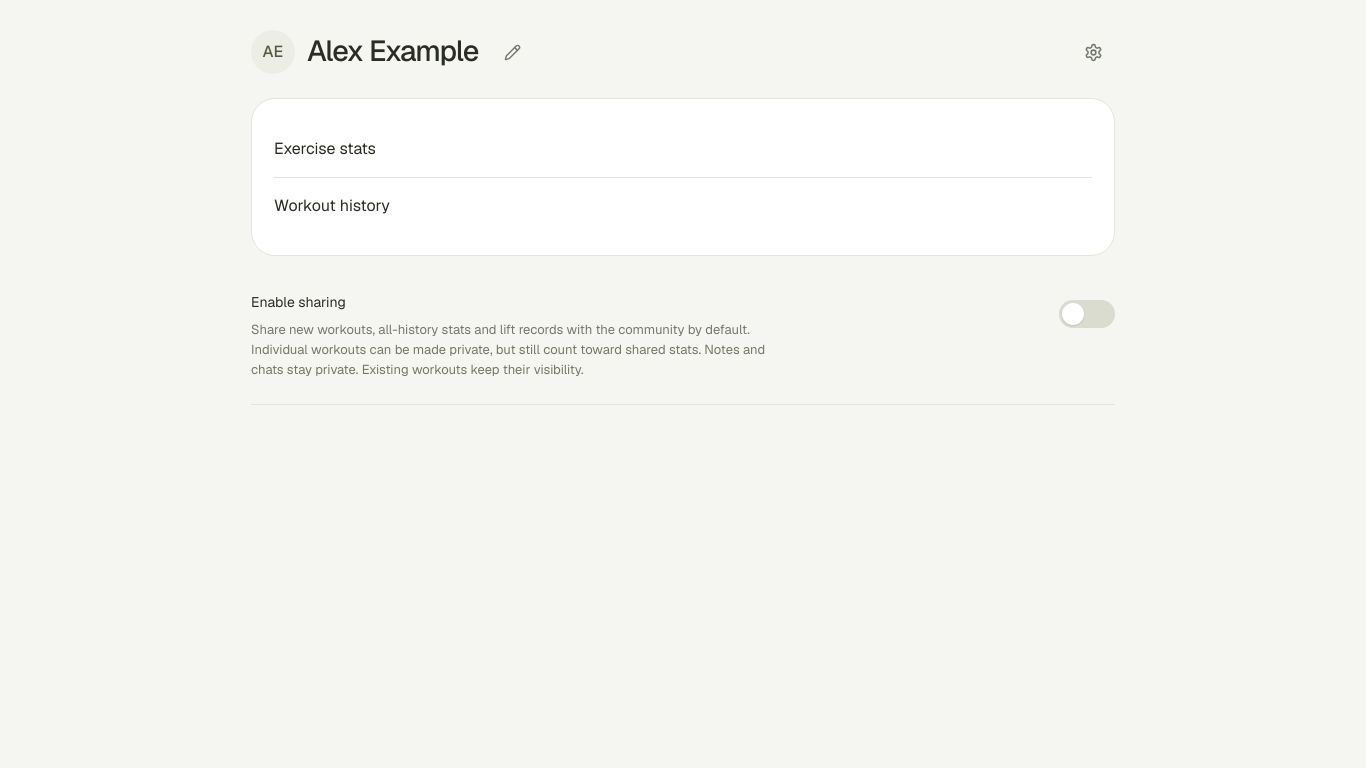
Test: edits only the display name through the pencil surface
Click the button named "Edit display name" at (512, 52), box [490, 30, 534, 74]
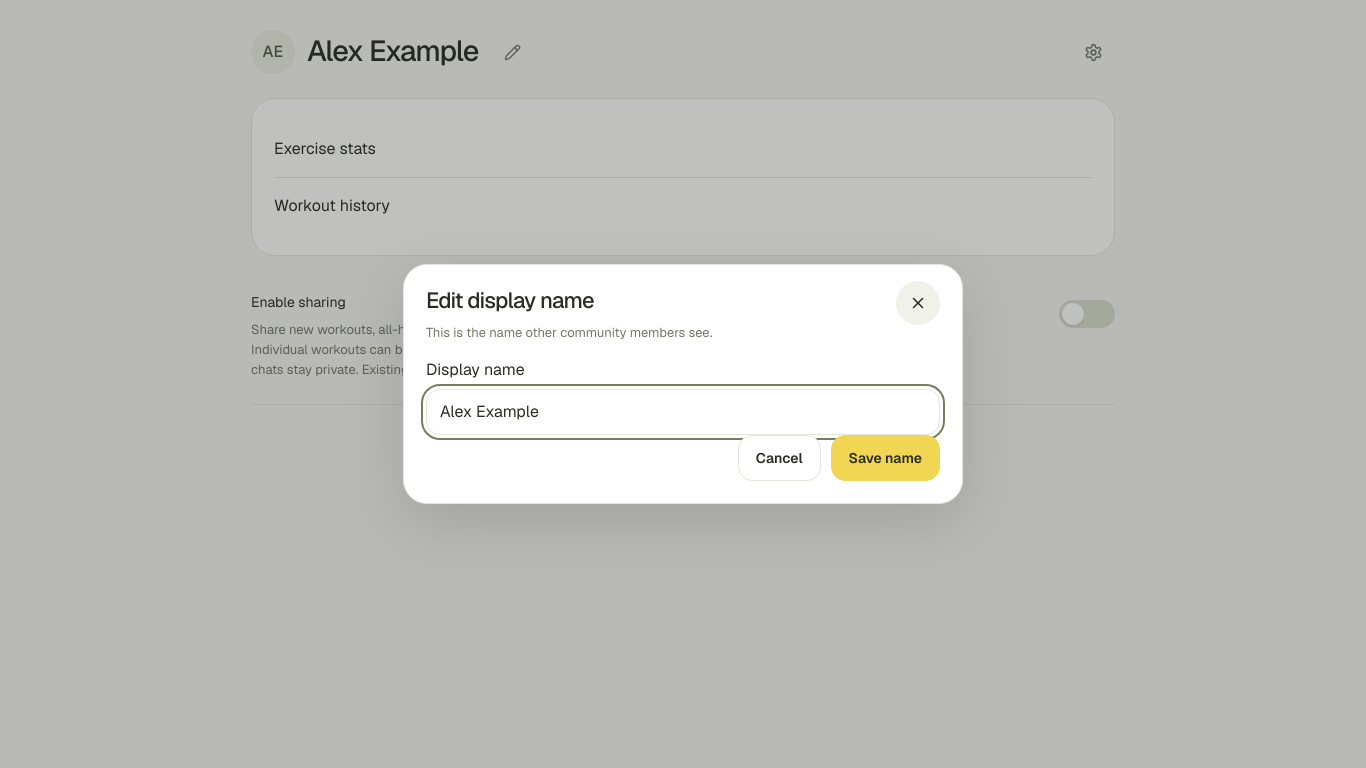
Replace the text in the field labelled "Display name" with "New Name" at (683, 412), box [426, 389, 940, 435]
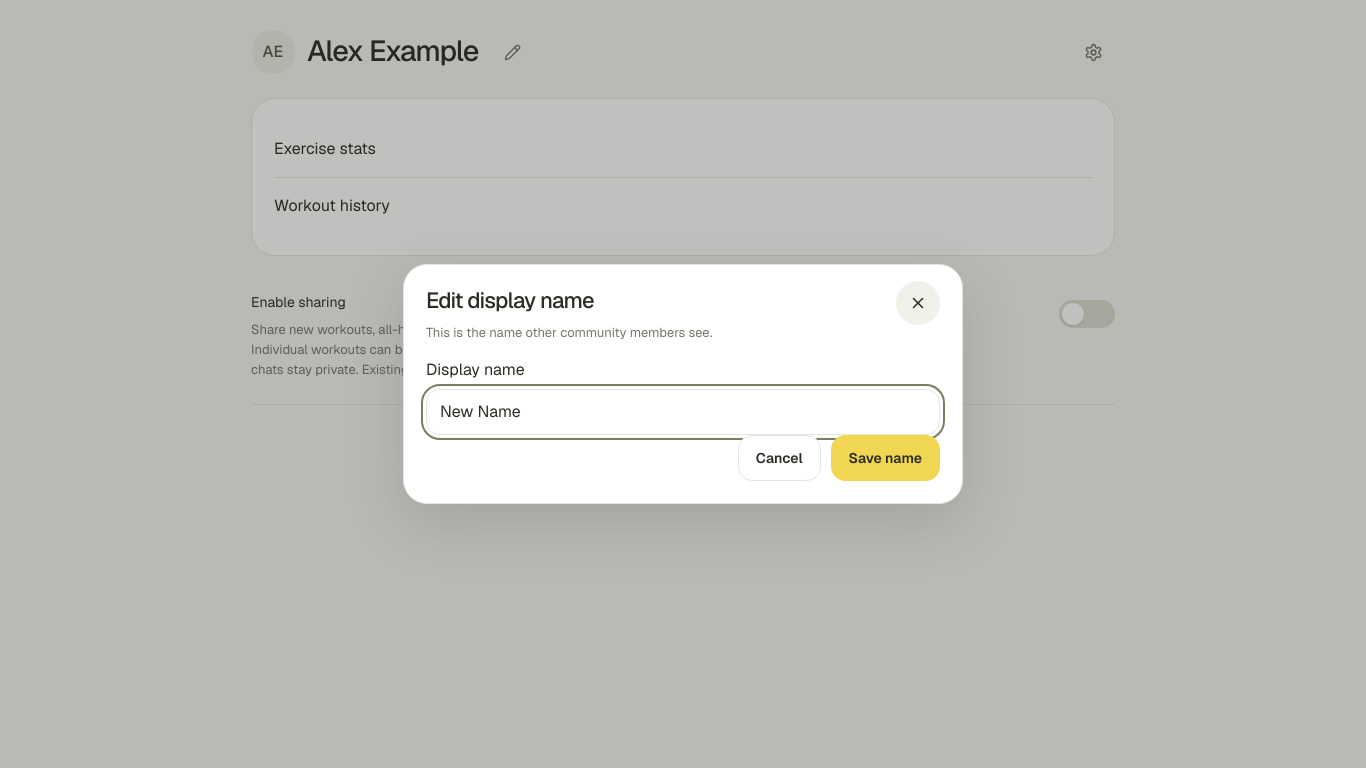
Click the button "Save name" at (885, 458), box [831, 435, 940, 481]
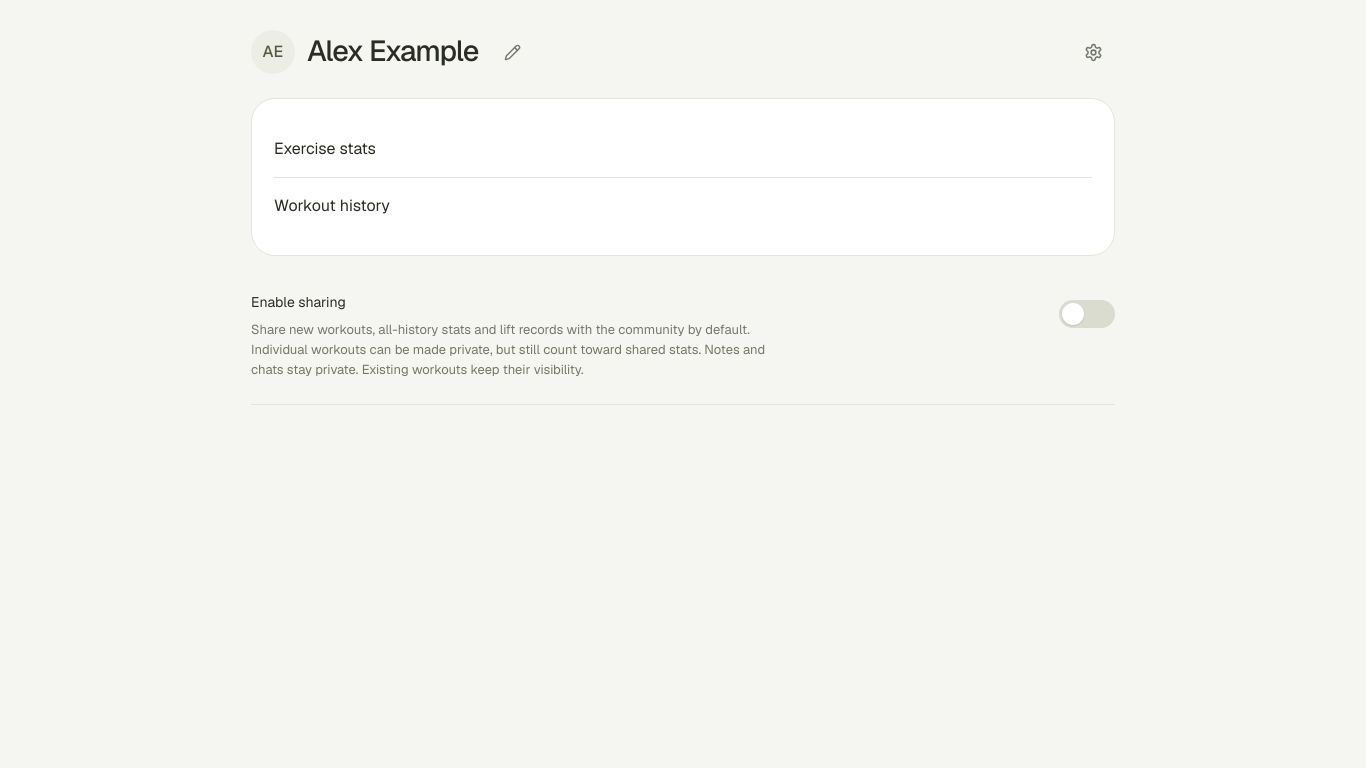
Expected: the dialog is gone
